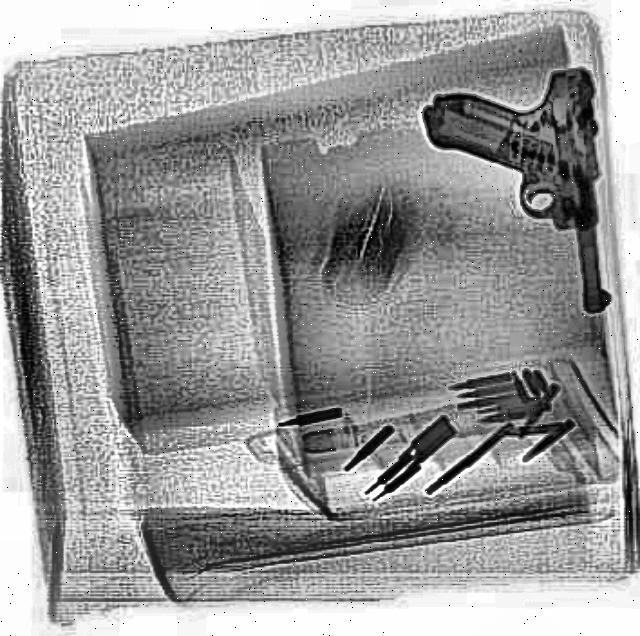Gun: (424, 63, 626, 325)
